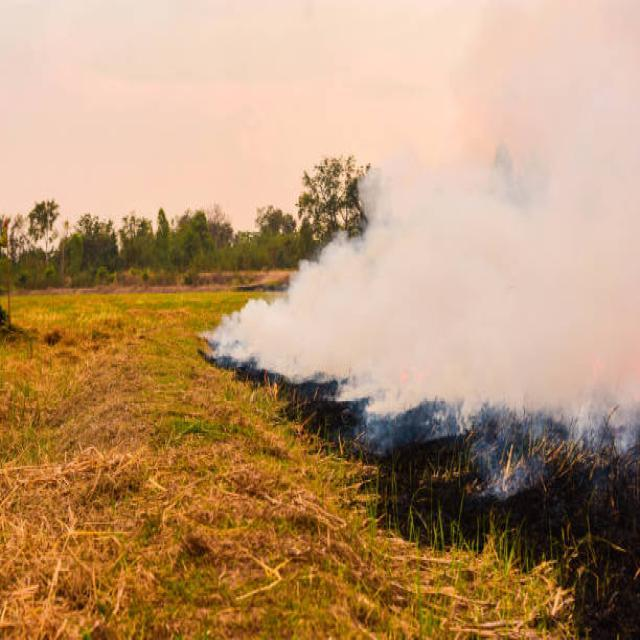Smoke: (215, 0, 640, 492)
